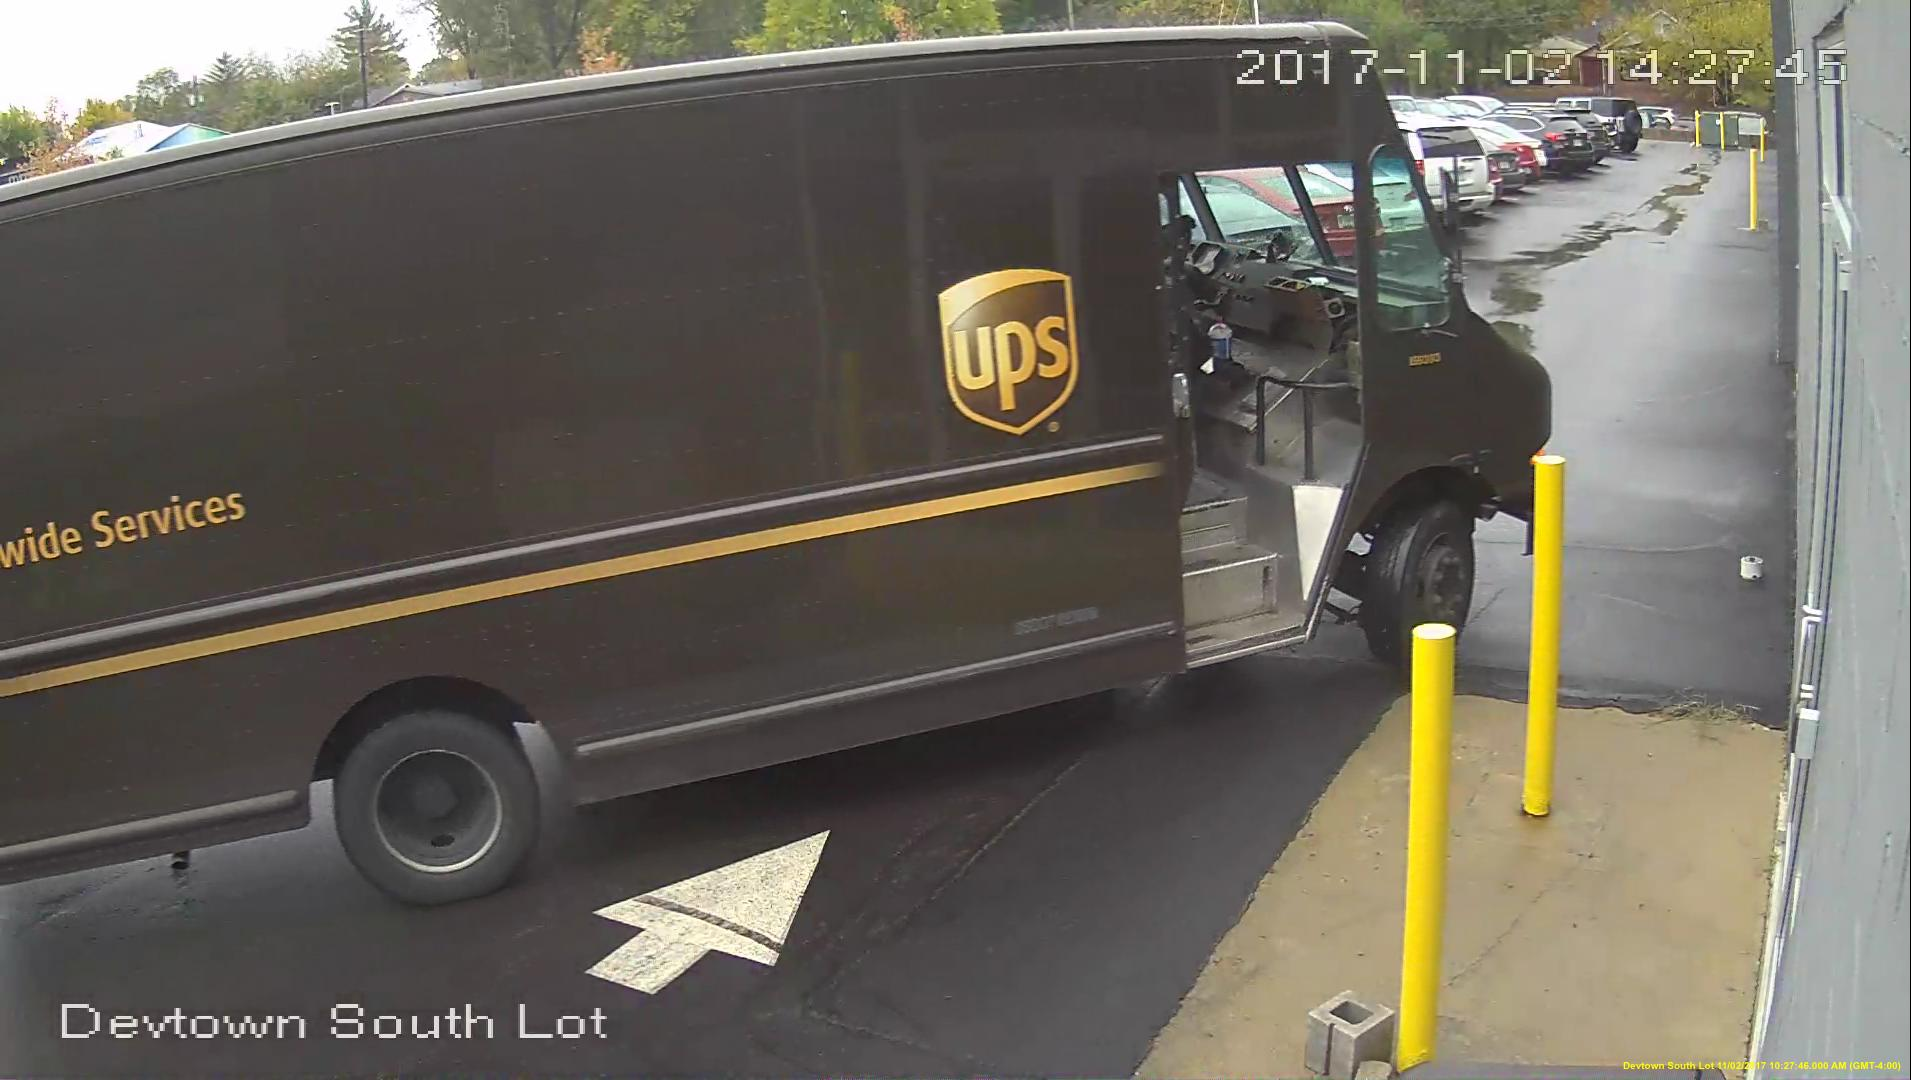ups_truck: (1, 24, 1542, 888)
